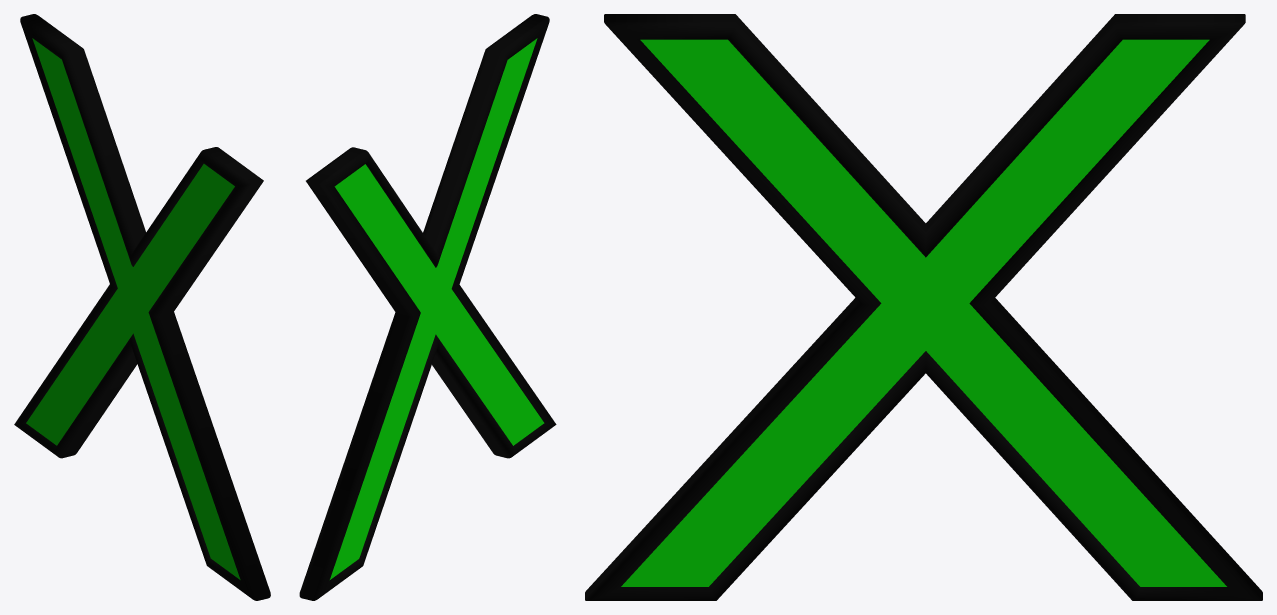
Rendered from xLetter.fbx.
3 renders of one model, left to right at view 1: azimuth 30°, elevation 25°; view 2: azimuth 150°, elevation 25°; view 3: azimuth 270°, elevation 25°, orthographic. The views are drawn at different scales.
Visible parts, largest first — view 1: X; view 2: X; view 3: X.
Boxes of the visible parts, x1,y1,x2,y2 form: X: (14, 14, 270, 600); X: (299, 14, 556, 600); X: (585, 14, 1262, 600).
Size of the model in its own units: 0.08 by 1.4 by 1.49.
